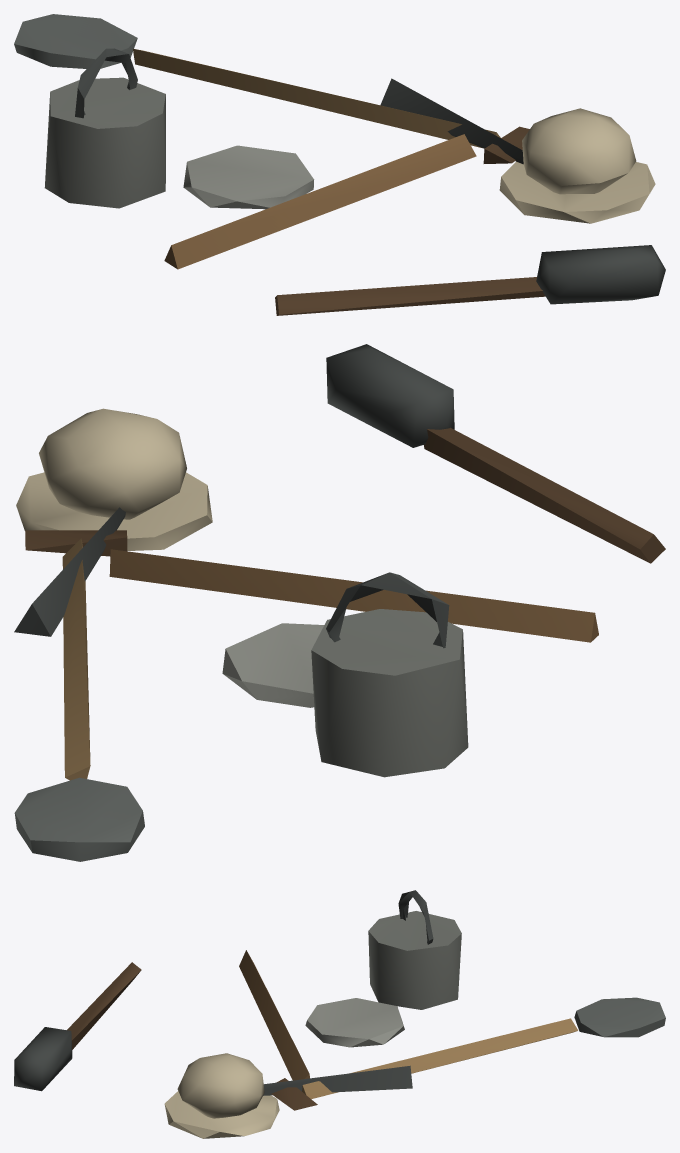
File: tool_drop_a_lod2.glb
The picture shows the model from 3 angles, top to bottom: view 1: azimuth 30°, elevation 25°; view 2: azimuth 150°, elevation 25°; view 3: azimuth 270°, elevation 25°; orthographic projection. The views are drawn at different scales.
Visible parts, largest first — view 1: Surface.001; view 2: Surface.001; view 3: Surface.001.
Part boxes in pixels (x1,y1,x2,y2): Surface.001: (14, 14, 665, 315); Surface.001: (14, 344, 665, 861); Surface.001: (14, 890, 665, 1138).
Bounding box in the file's own units: 1.36 × 0.3714 × 2.19.
